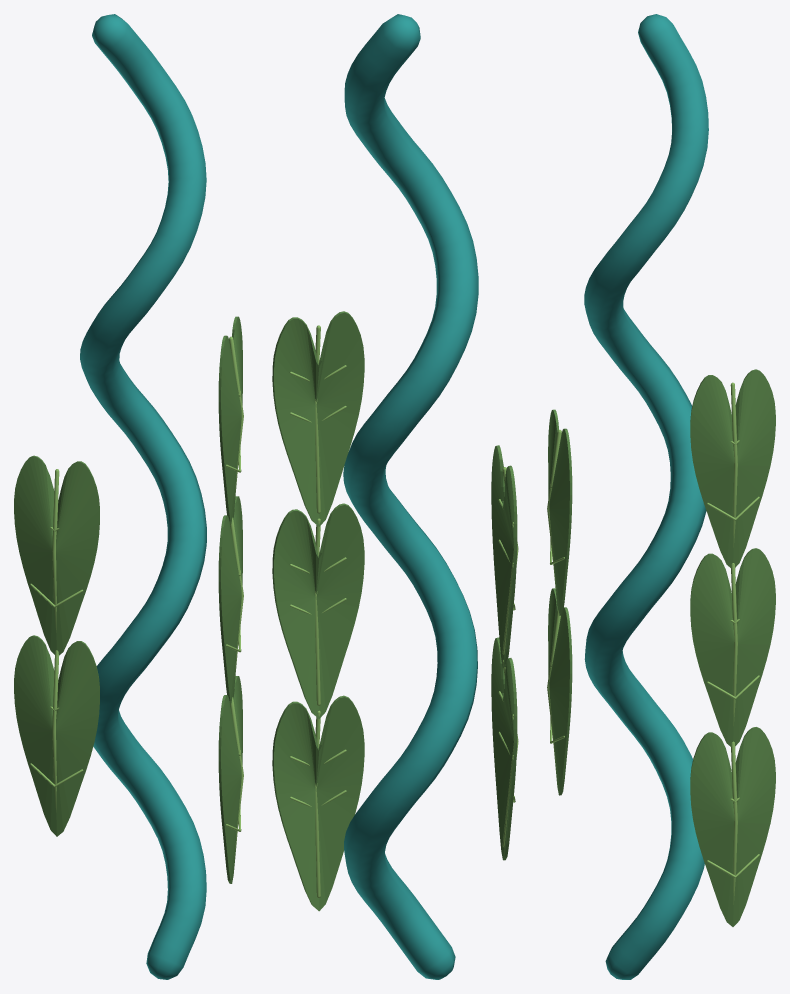
Rendered from star_vine_growing.glb.
3 renders of one model, left to right at view 1: azimuth 30°, elevation 25°; view 2: azimuth 150°, elevation 25°; view 3: azimuth 330°, elevation 25°, orthographic. The views are drawn at different scales.
Visible parts, largest first — view 1: Twining_stem, Broad_shaped_leaf.001, Broad_shaped_leaf.003, Broad_shaped_leaf.004, Broad_shaped_leaf, Broad_shaped_leaf.002, Leaf_midvein.003, Leaf_midvein.001; view 2: Twining_stem, Broad_shaped_leaf.002, Broad_shaped_leaf.004, Broad_shaped_leaf, Broad_shaped_leaf.003, Broad_shaped_leaf.001, Leaf_midvein.004, Leaf_midvein.002, Leaf_midvein; view 3: Twining_stem, Broad_shaped_leaf, Broad_shaped_leaf.004, Broad_shaped_leaf.002, Broad_shaped_leaf.003, Broad_shaped_leaf.001, Leaf_midvein.004, Leaf_midvein.002, Leaf_midvein.
Part boxes in pixels (x1=…): Twining_stem: x1=80, y1=14, x2=206, y2=979; Broad_shaped_leaf.001: x1=14, y1=635, x2=99, y2=836; Broad_shaped_leaf.003: x1=14, y1=455, x2=99, y2=655; Broad_shaped_leaf.004: x1=218, y1=316, x2=242, y2=523; Broad_shaped_leaf: x1=218, y1=676, x2=242, y2=883; Broad_shaped_leaf.002: x1=218, y1=496, x2=242, y2=703; Leaf_midvein.003: x1=52, y1=469, x2=59, y2=632; Leaf_midvein.001: x1=52, y1=650, x2=58, y2=812; Twining_stem: x1=343, y1=14, x2=478, y2=979; Broad_shaped_leaf.002: x1=272, y1=503, x2=364, y2=718; Broad_shaped_leaf.004: x1=272, y1=311, x2=364, y2=526; Broad_shaped_leaf: x1=272, y1=695, x2=364, y2=911; Broad_shaped_leaf.003: x1=491, y1=445, x2=517, y2=667; Broad_shaped_leaf.001: x1=491, y1=637, x2=517, y2=860; Leaf_midvein.004: x1=315, y1=325, x2=320, y2=513; Leaf_midvein.002: x1=315, y1=518, x2=320, y2=705; Leaf_midvein: x1=315, y1=710, x2=320, y2=897; Twining_stem: x1=584, y1=14, x2=708, y2=979; Broad_shaped_leaf: x1=690, y1=727, x2=775, y2=926; Broad_shaped_leaf.004: x1=690, y1=369, x2=775, y2=567; Broad_shaped_leaf.002: x1=690, y1=548, x2=775, y2=746; Broad_shaped_leaf.003: x1=548, y1=409, x2=572, y2=615; Broad_shaped_leaf.001: x1=548, y1=588, x2=572, y2=795; Leaf_midvein.004: x1=730, y1=382, x2=737, y2=547; Leaf_midvein.002: x1=731, y1=563, x2=737, y2=725; Leaf_midvein: x1=731, y1=741, x2=737, y2=904.
Size of the model in its own units: 0.144 by 0.5611 by 0.0692.
